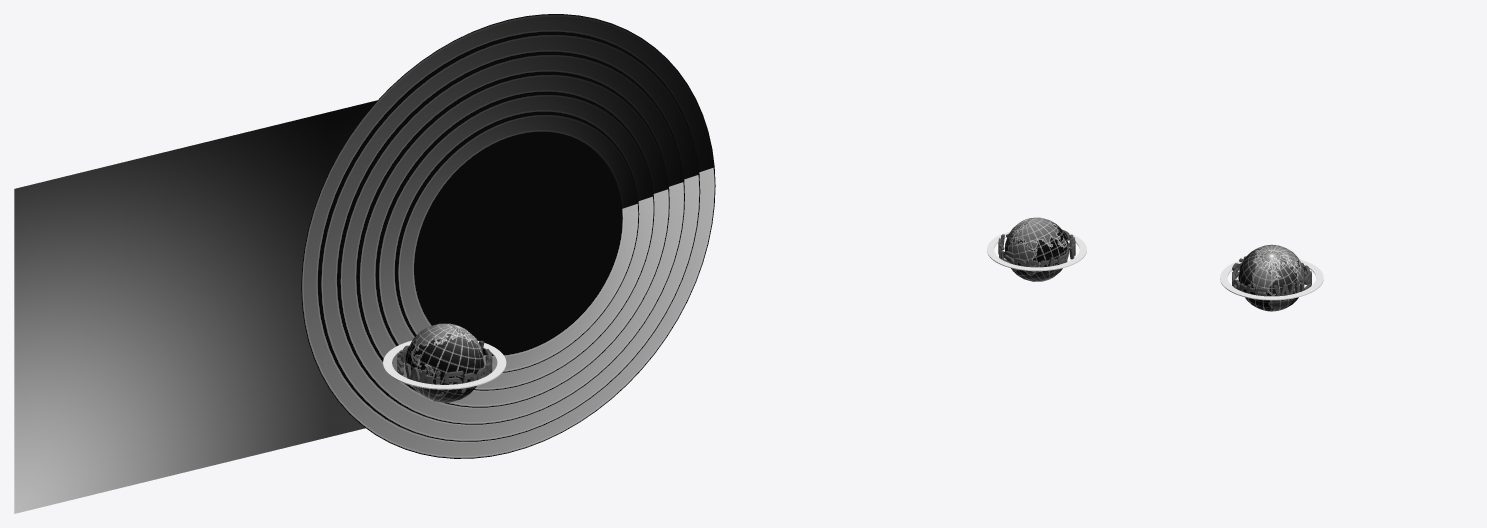
The model's file is menu_BG_model__menu_BG_model.glb.
3 views of the same model, side by side, from view 1: azimuth 30°, elevation 25°; view 2: azimuth 150°, elevation 25°; view 3: azimuth 270°, elevation 25° (orthographic). The views are drawn at different scales.
Parts seen in each view (by area): view 1: polygon0, polygon8, polygon3, polygon4, polygon5, polygon6, polygon7, polygon1, polygon9, polygon2; view 2: polygon1, polygon2, polygon9; view 3: polygon1, polygon9, polygon2.
Boxes of the visible parts, x1=… form: polygon0: x1=14, y1=100, x2=377, y2=513; polygon8: x1=397, y1=114, x2=639, y2=373; polygon3: x1=301, y1=14, x2=715, y2=458; polygon4: x1=320, y1=34, x2=700, y2=441; polygon5: x1=339, y1=54, x2=684, y2=424; polygon6: x1=359, y1=74, x2=669, y2=407; polygon7: x1=378, y1=94, x2=654, y2=390; polygon1: x1=405, y1=323, x2=484, y2=402; polygon9: x1=383, y1=340, x2=506, y2=389; polygon2: x1=397, y1=337, x2=492, y2=392; polygon1: x1=1005, y1=217, x2=1068, y2=281; polygon2: x1=998, y1=229, x2=1075, y2=271; polygon9: x1=987, y1=231, x2=1086, y2=271; polygon1: x1=1238, y1=244, x2=1304, y2=311; polygon9: x1=1220, y1=259, x2=1323, y2=300; polygon2: x1=1232, y1=256, x2=1311, y2=300.
Bounding box in the file's own units: 180 × 125 × 75.47.
6 materials, 5 textured.
